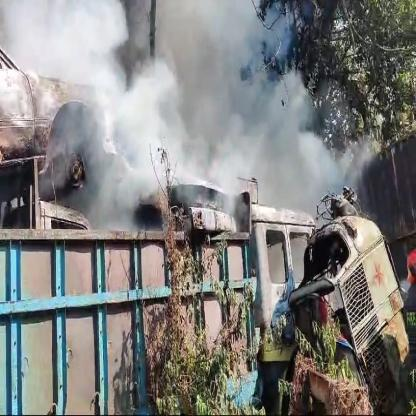Smoke: (0, 0, 360, 274)
